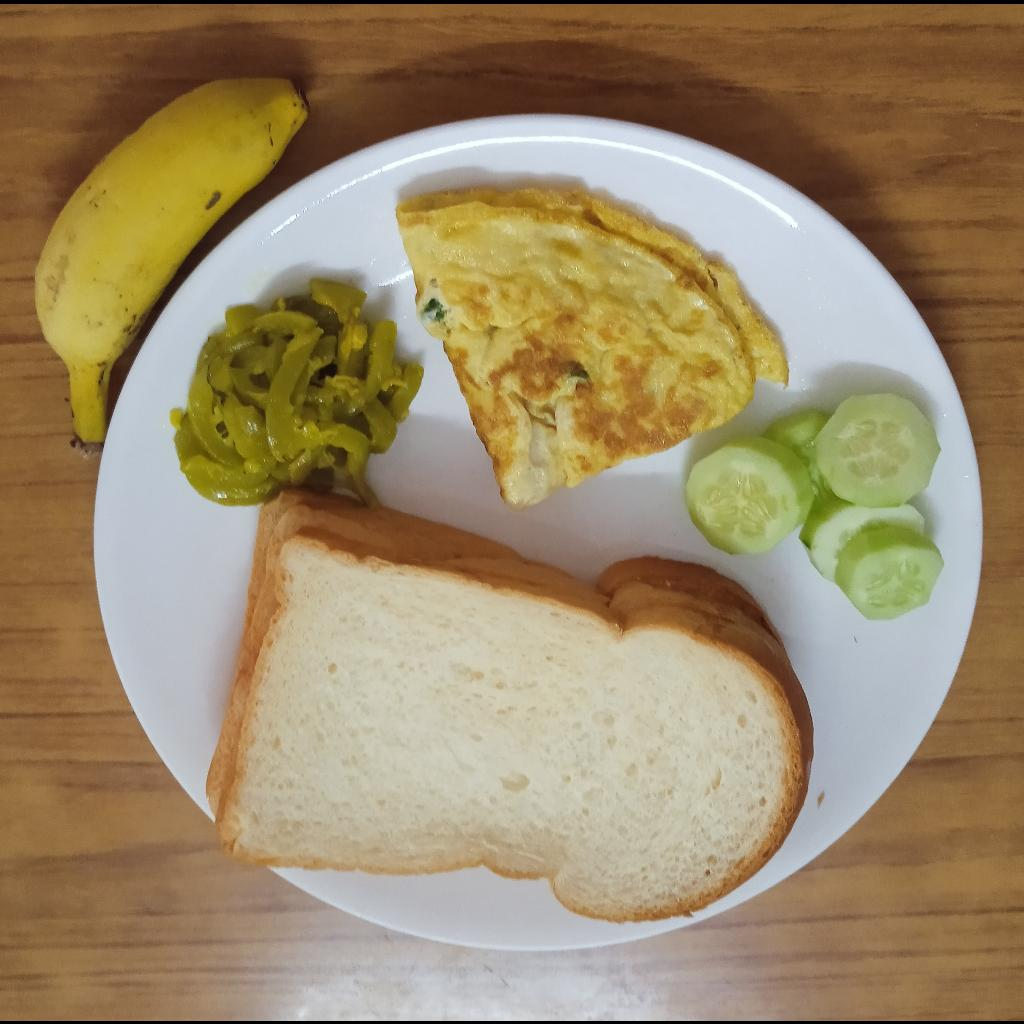banana: (32, 74, 312, 451)
bread: (200, 491, 819, 925)
chichinga-vaji: (175, 274, 425, 504)
cucumber: (676, 390, 944, 622)
egg-poached: (393, 185, 788, 508)
